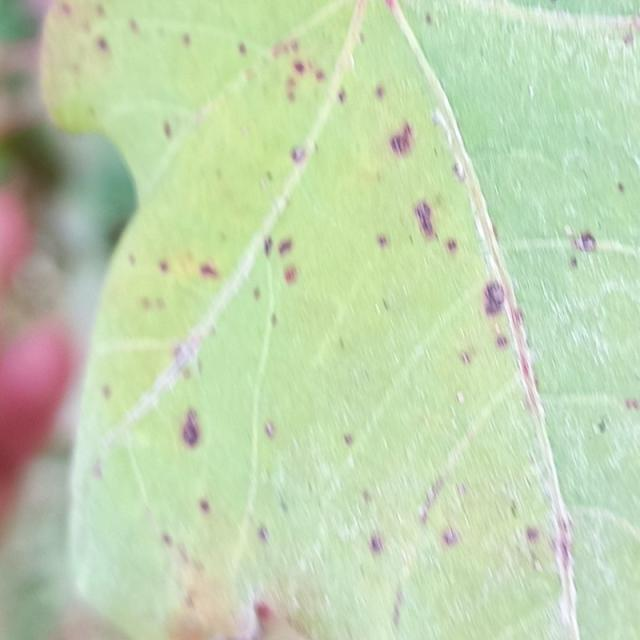Bacterial_Blight: (448, 276, 525, 381), (409, 195, 461, 261), (581, 402, 637, 436), (385, 116, 423, 164), (417, 478, 446, 522), (565, 228, 598, 257), (180, 407, 203, 447), (413, 201, 437, 237), (482, 280, 507, 314), (555, 521, 575, 560), (174, 341, 198, 371), (137, 294, 167, 313), (272, 37, 297, 59), (391, 586, 405, 625), (441, 526, 460, 546), (368, 534, 385, 554), (199, 262, 218, 279), (290, 146, 307, 164), (452, 162, 466, 182), (278, 238, 293, 256), (459, 348, 475, 364), (257, 603, 272, 620), (264, 420, 276, 439), (624, 397, 639, 412), (526, 526, 540, 542), (284, 267, 297, 284), (623, 28, 635, 46), (278, 495, 289, 514), (92, 460, 103, 479), (258, 525, 270, 542), (513, 306, 525, 323), (376, 233, 389, 248), (96, 36, 108, 52), (199, 498, 211, 514), (263, 236, 273, 255), (162, 121, 172, 139), (60, 3, 72, 17), (375, 84, 386, 99), (128, 18, 139, 33), (162, 532, 173, 547), (510, 500, 519, 518), (285, 87, 295, 103), (418, 506, 428, 522), (293, 61, 305, 74), (101, 385, 112, 399), (383, 0, 397, 11), (158, 260, 169, 273), (343, 433, 354, 446), (237, 42, 247, 56), (381, 297, 391, 311), (597, 420, 607, 433), (181, 33, 191, 46), (315, 69, 325, 82), (362, 490, 372, 503), (338, 90, 347, 104), (569, 256, 579, 268), (424, 13, 433, 26), (127, 253, 136, 266), (253, 287, 261, 300), (270, 314, 278, 327), (617, 182, 625, 193)
Cotton: (41, 0, 639, 639)
